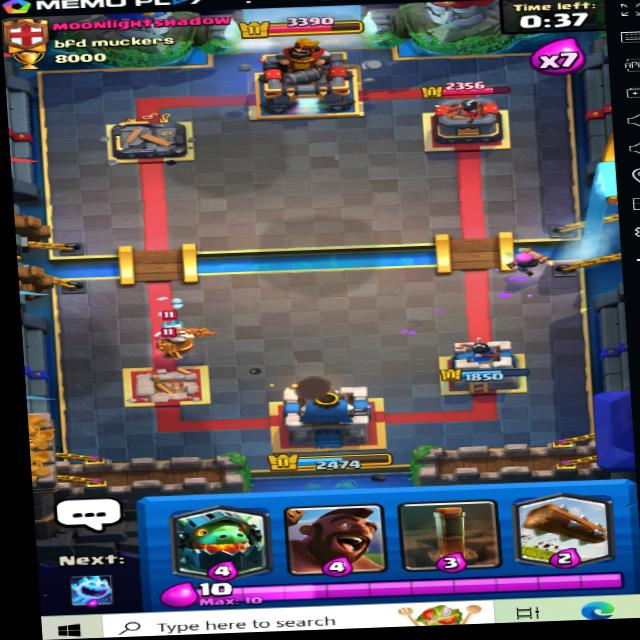ice-spirit: (146, 318, 193, 335)
monk: (141, 323, 219, 365)
